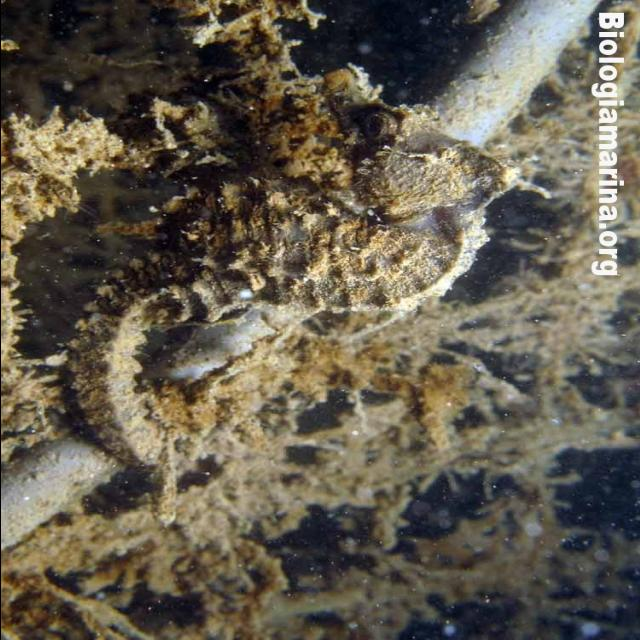Hippo: (296, 56, 526, 240)
